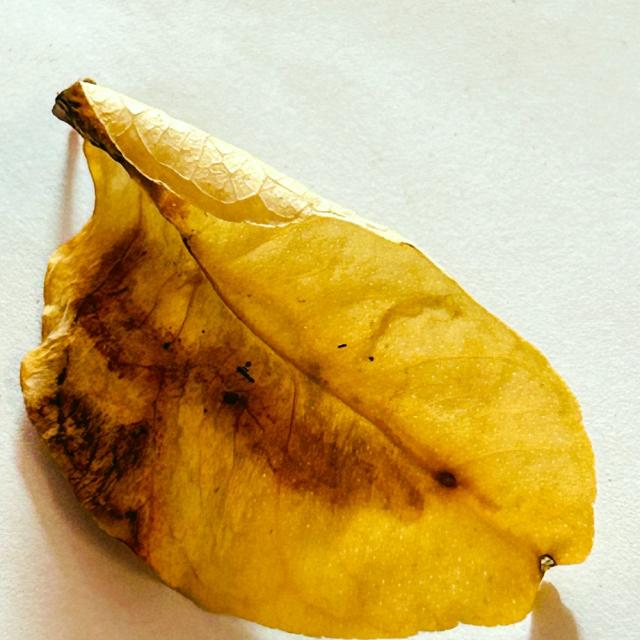DryLeaf_Lemon: (20, 79, 596, 637)
